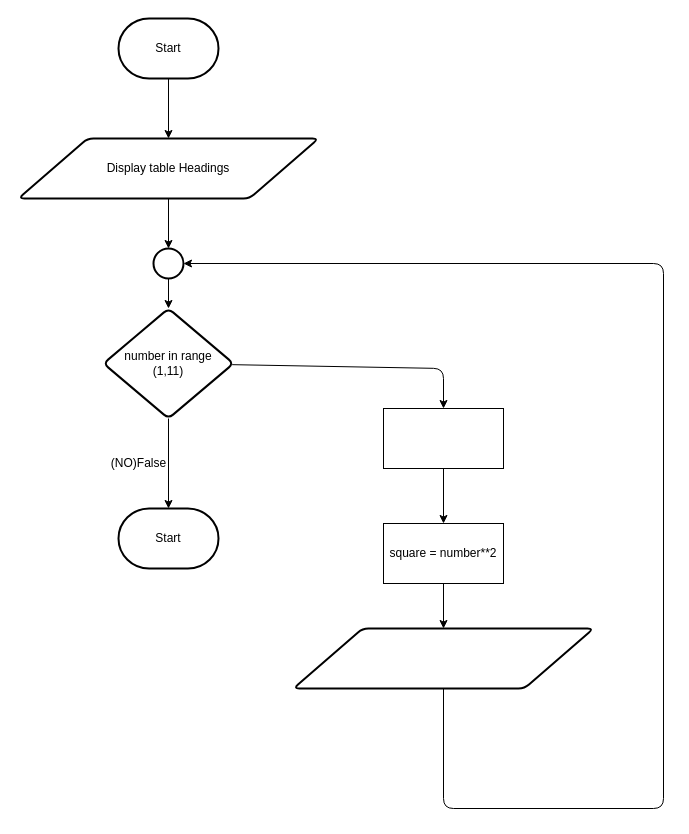
This 689x834 diagram has some shape labels left out. Here are the shapes that lost their labels. From the top down, the centre of each, then its label:
At (443,438): "Assign the next value in the list to number".
At (443,658): "Display the number variable and the square varible".
